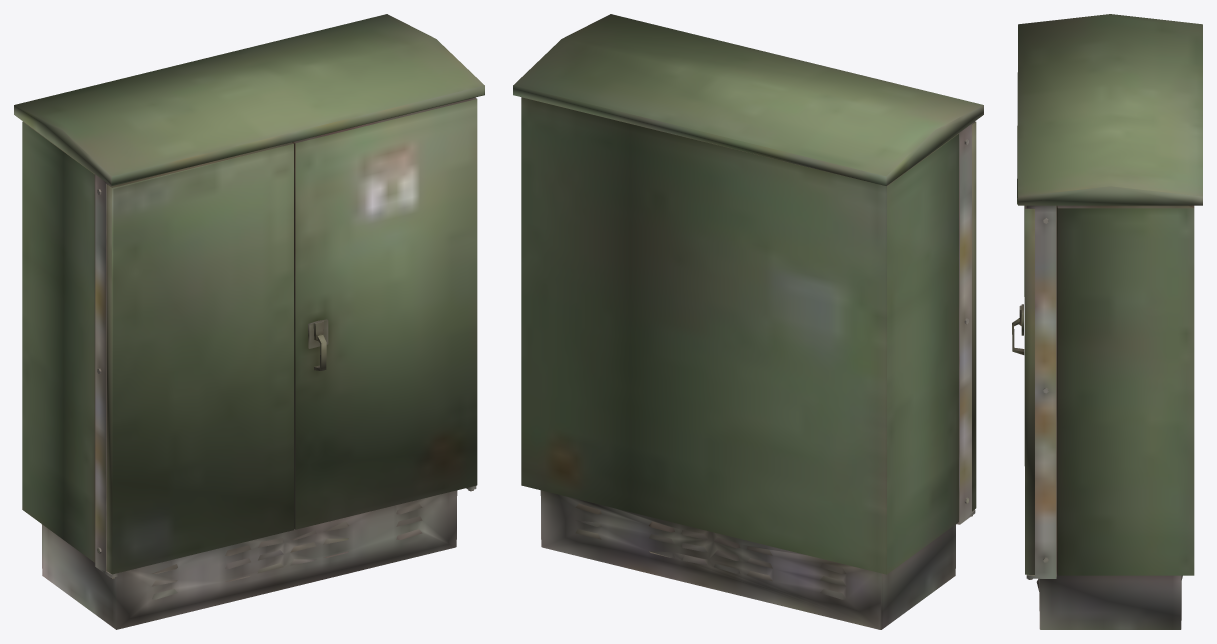
Rendered from utility_box_02_lod2.glb.
3 renders of one model, left to right at view 1: azimuth 30°, elevation 25°; view 2: azimuth 150°, elevation 25°; view 3: azimuth 270°, elevation 25°, orthographic. The views are drawn at different scales.
Visible parts, largest first — view 1: utility_box_02; view 2: utility_box_02; view 3: utility_box_02.
Boxes of the visible parts, left/top/right/bottom form: utility_box_02: left=14, top=14, right=484, bottom=629; utility_box_02: left=513, top=14, right=983, bottom=629; utility_box_02: left=1012, top=14, right=1202, bottom=629.
Bounding box in the file's own units: 0.9165 × 1.12 × 0.4287.
Materials: 1 (1 with a texture image).
